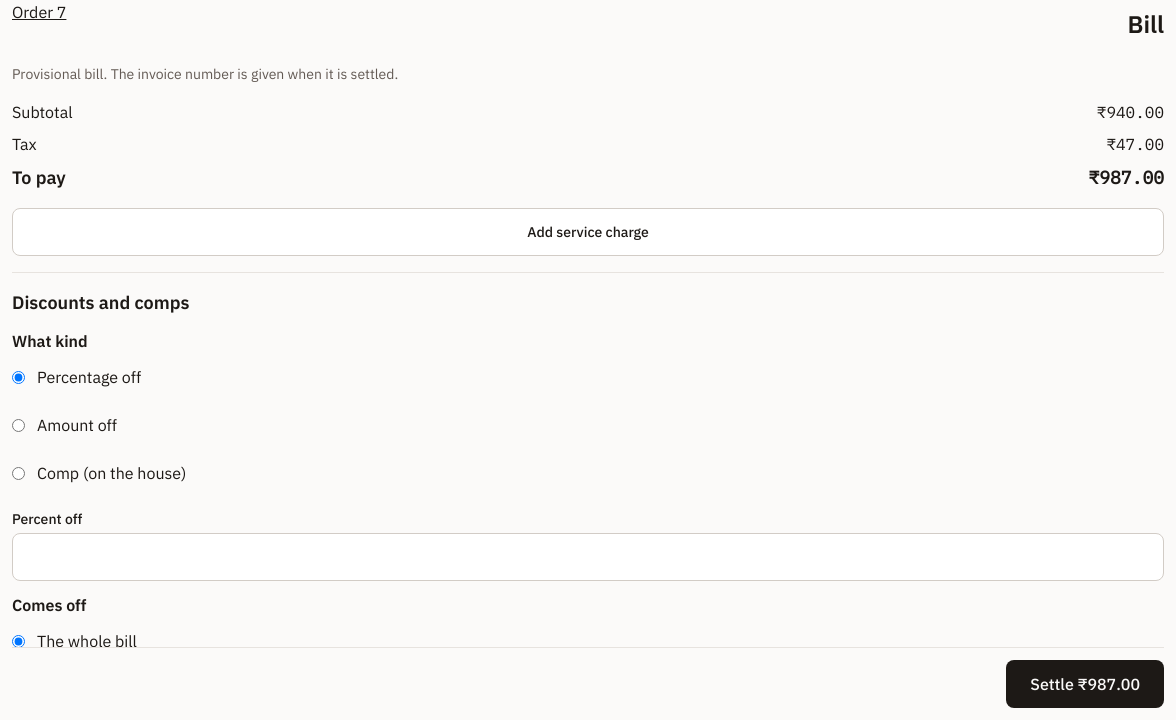
discounts and comps › asks for a note when the reason is Other, and sends nothing until it has one
Expected: the heading "Discounts and comps" is shown, x1=12 y1=291 x2=190 y2=314
Click the radio button labelled "Comp (on the house)" at (18, 473), box x1=12 y1=466 x2=25 y2=480
(page scrolled)
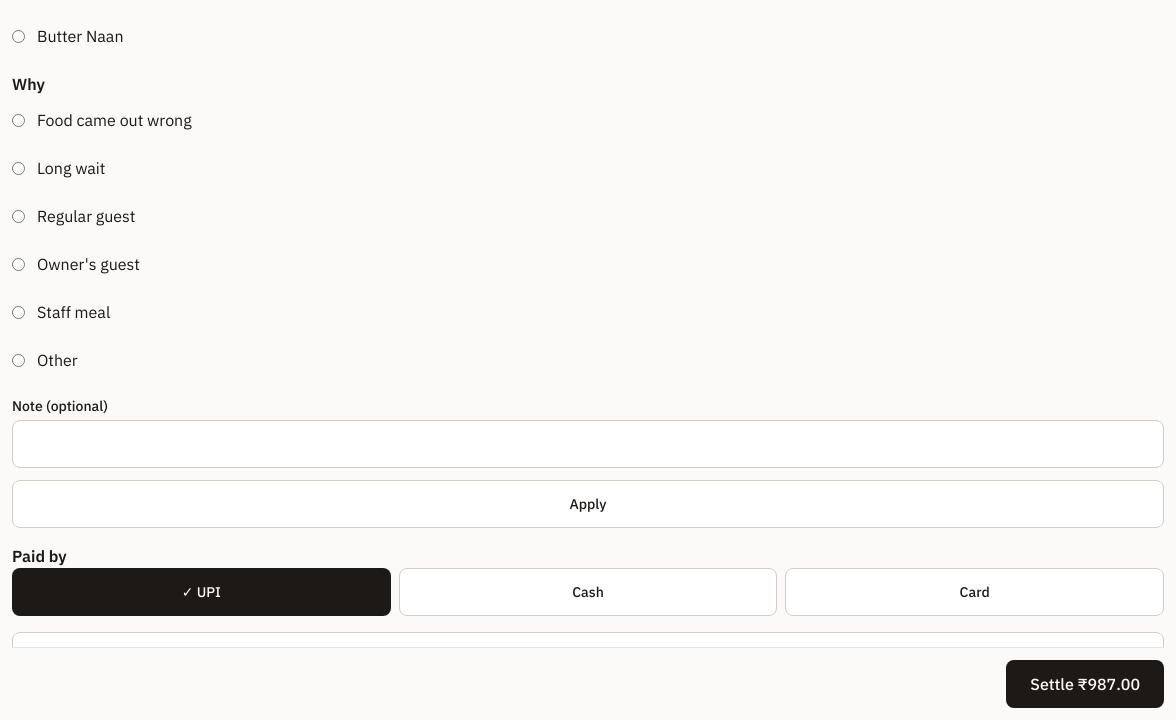
Click the radio button labelled "Other" at (18, 360), box x1=12 y1=354 x2=25 y2=366
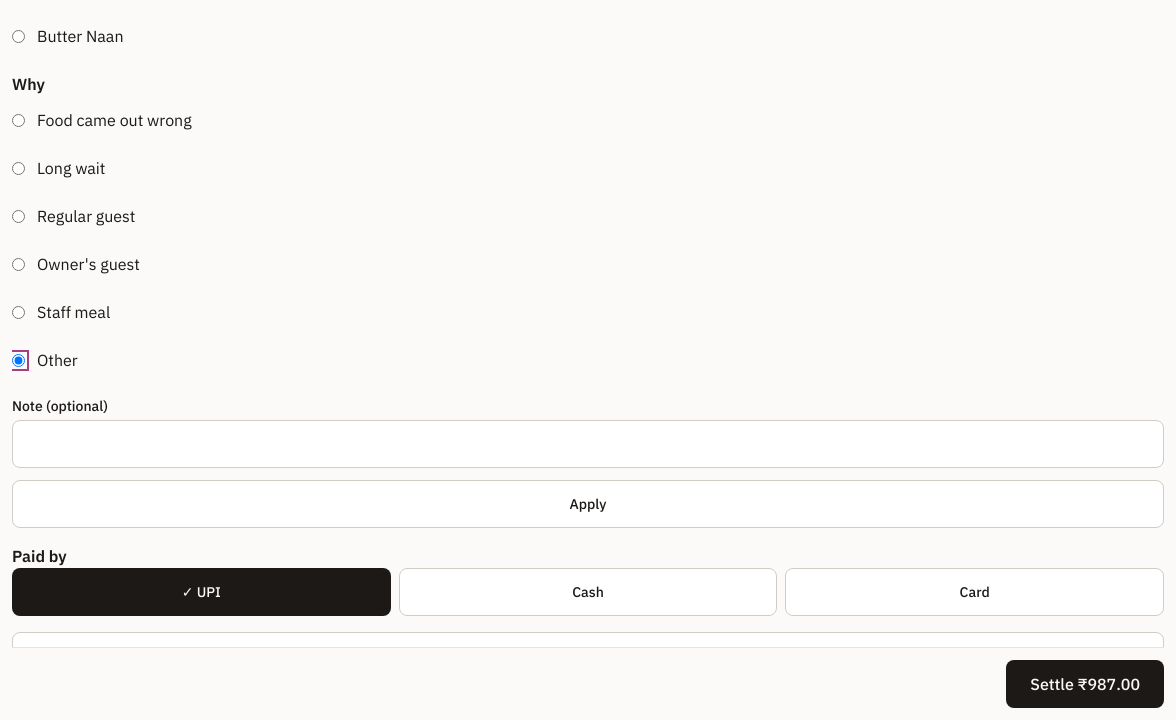
Click the button "Apply" at (588, 504), box x1=12 y1=480 x2=1164 y2=528
(page scrolled)
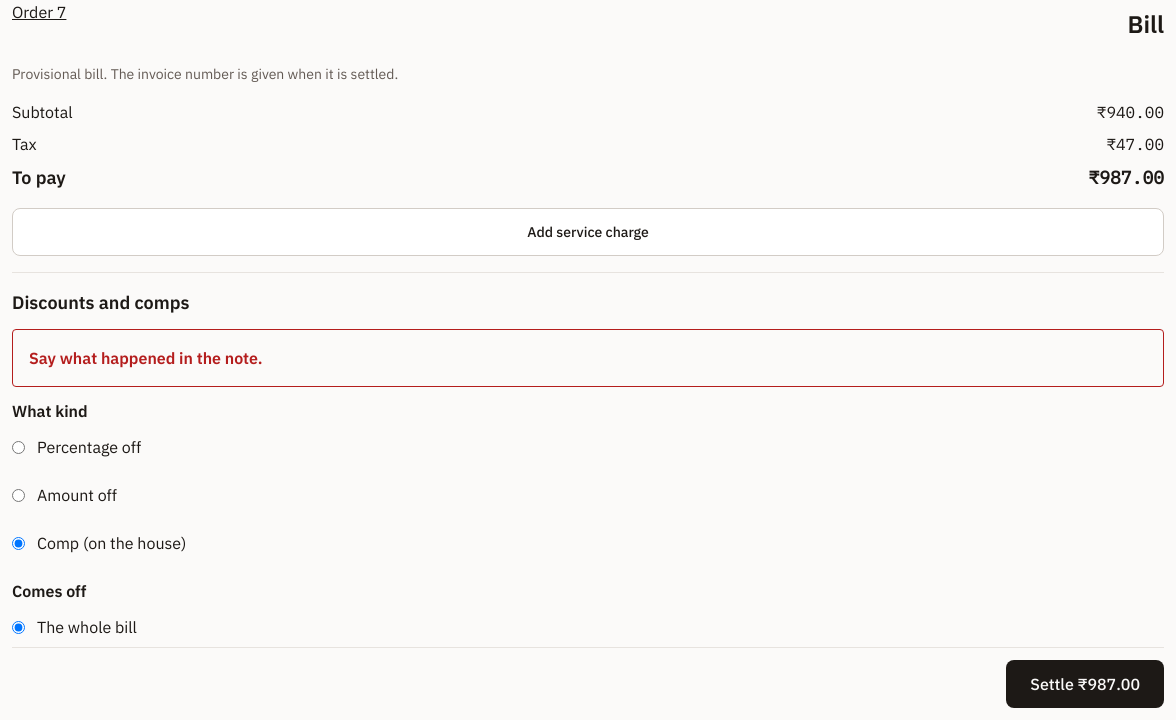
Expected: the text "Say what happened in the note." is shown, x1=29 y1=348 x2=262 y2=368
